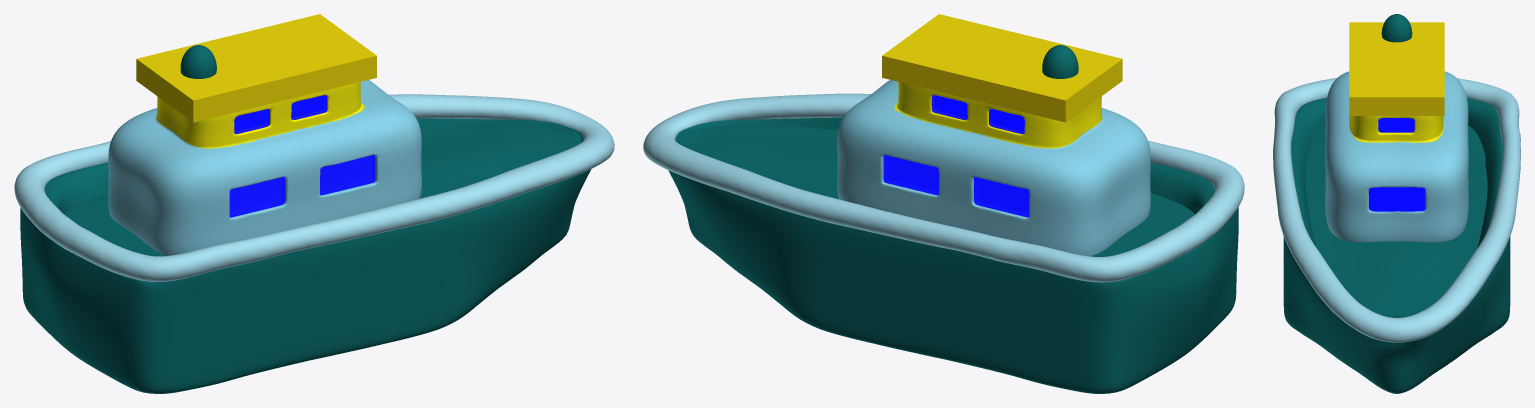
File: boat.glb
The picture shows the model from 3 angles, left to right: view 1: azimuth 30°, elevation 25°; view 2: azimuth 150°, elevation 25°; view 3: azimuth 270°, elevation 25°; orthographic projection. The views are drawn at different scales.
Parts seen in each view (by area): view 1: Object_17, Object_11, Object_5, Object_9, Object_15, Object_12, Object_7, Object_3; view 2: Object_17, Object_11, Object_5, Object_9, Object_15, Object_12, Object_7, Object_3; view 3: Object_17, Object_11, Object_5, Object_15, Object_9, Object_7, Object_12, Object_3.
Part boxes in pixels (x1,y1,x2,y2): Object_17: (20,118,591,393); Object_11: (108,80,421,255); Object_5: (14,94,614,281); Object_9: (136,14,376,122); Object_15: (64,124,581,256); Object_12: (156,82,363,148); Object_7: (229,95,375,217); Object_3: (180,45,216,78); Object_17: (668,117,1238,393); Object_11: (837,80,1150,256); Object_5: (643,93,1244,282); Object_9: (882,14,1122,122); Object_15: (678,124,1194,256); Object_12: (895,82,1102,147); Object_7: (883,95,1029,217); Object_3: (1042,45,1078,78); Object_17: (1283,97,1510,393); Object_11: (1325,71,1468,242); Object_5: (1273,78,1520,342); Object_15: (1305,125,1487,317); Object_9: (1349,22,1444,115); Object_7: (1368,118,1425,211); Object_12: (1350,116,1443,142); Object_3: (1381,14,1412,42).
Size of the model in its own units: 3.64 by 1.76 by 1.67.
7 materials, 7 textured.
